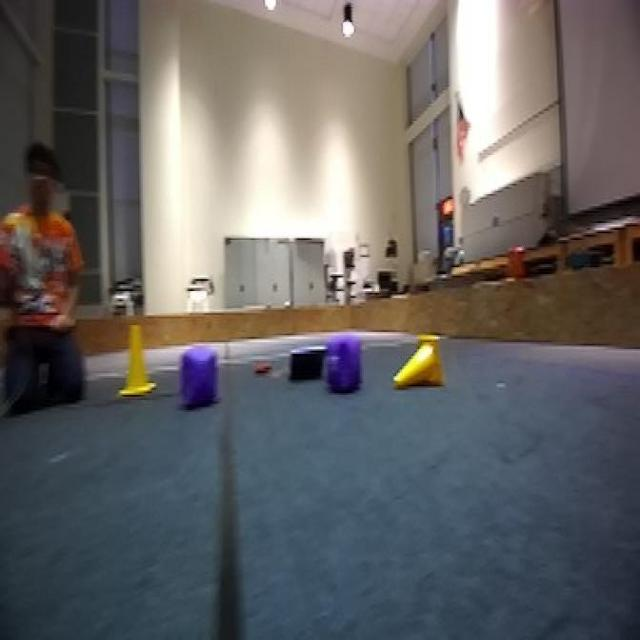frc_cone: (392, 328, 448, 398), (121, 323, 155, 400)
frc_cube: (181, 344, 222, 405), (325, 334, 365, 396)
